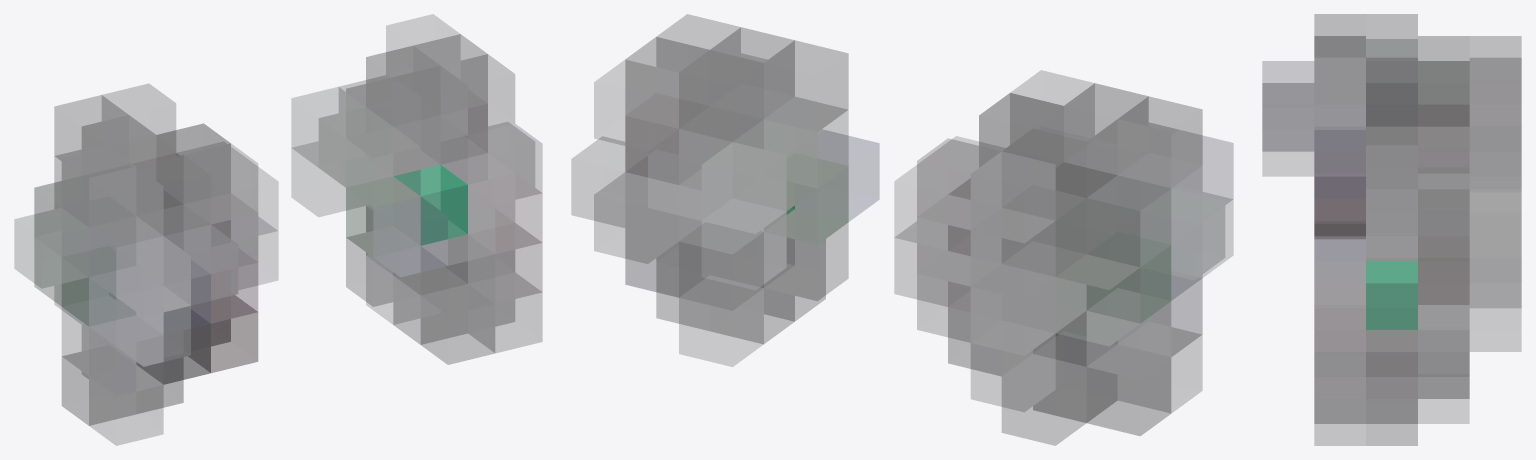
Rendered from iter_5.obj.
The picture shows the model from 3 angles, left to right: view 1: azimuth 30°, elevation 25°; view 2: azimuth 150°, elevation 25°; view 3: azimuth 270°, elevation 25°; orthographic projection. The views are drawn at different scales.
Parts seen in each view (by area): view 1: iter_5; view 2: iter_5; view 3: iter_5.
Boxes of the visible parts, x1=… form: iter_5: x1=15, y1=14, x2=542, y2=445; iter_5: x1=572, y1=14, x2=1233, y2=445; iter_5: x1=1262, y1=14, x2=1521, y2=445.
Bounding box in the file's own units: 1.1 × 0.5 × 0.5.
